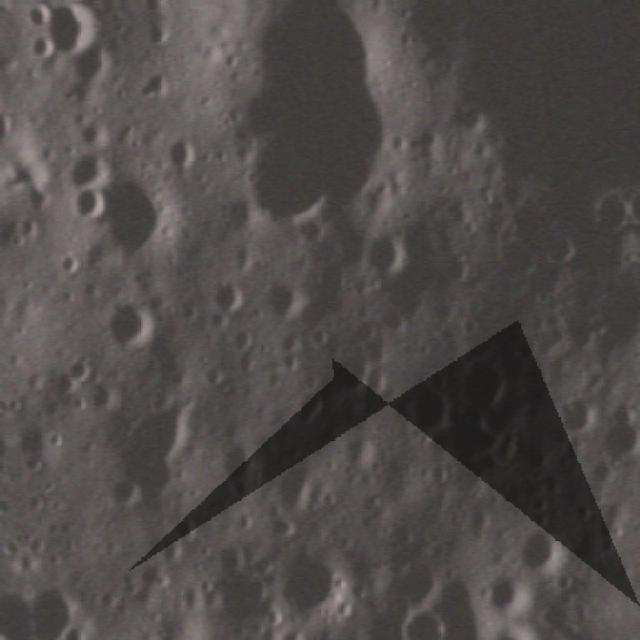crater: (228, 0, 423, 246), (272, 533, 356, 622), (102, 164, 172, 250), (458, 345, 516, 417), (27, 575, 84, 640), (518, 520, 576, 577), (37, 20, 118, 58), (106, 294, 160, 349), (579, 180, 632, 234), (363, 232, 414, 285), (476, 574, 532, 617), (408, 374, 450, 428), (67, 180, 110, 229), (270, 279, 312, 321), (396, 602, 452, 633), (212, 278, 256, 316), (108, 468, 144, 512), (86, 378, 122, 417), (63, 356, 94, 384), (0, 109, 14, 145)
